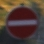No entry: (6, 5, 39, 39)
